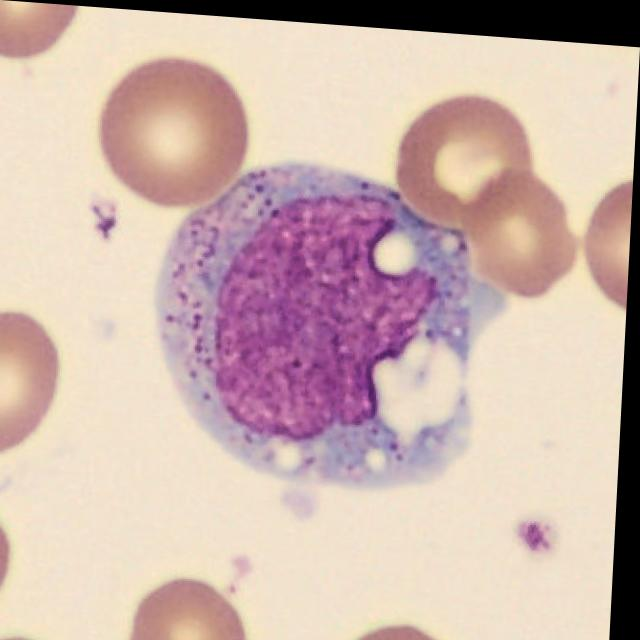Monocito: (157, 158, 478, 486)
